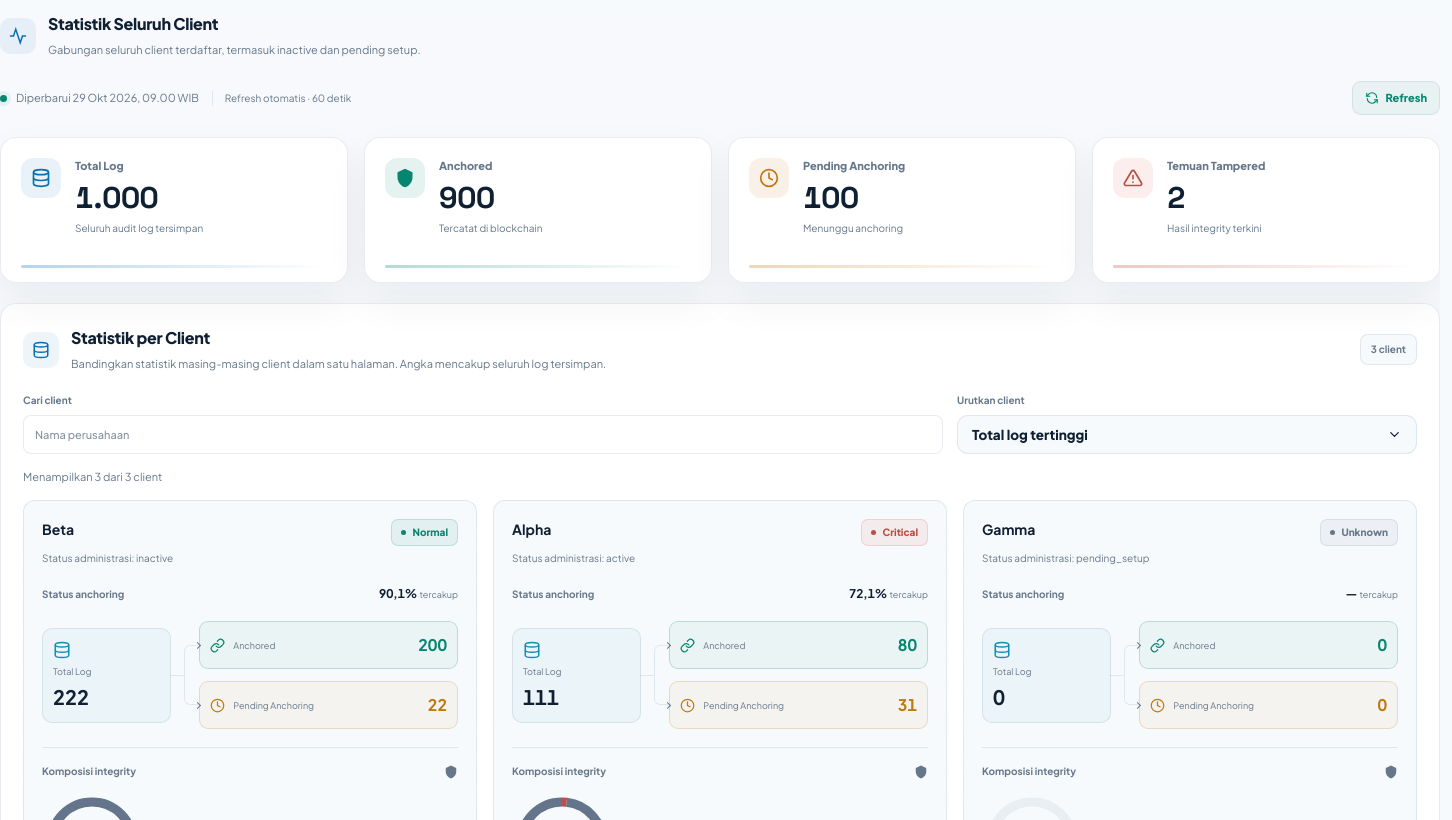
it: retains snapshot after refresh failure and supports retry
Click the button "Refresh": click(1396, 98) [1352, 81, 1440, 115]
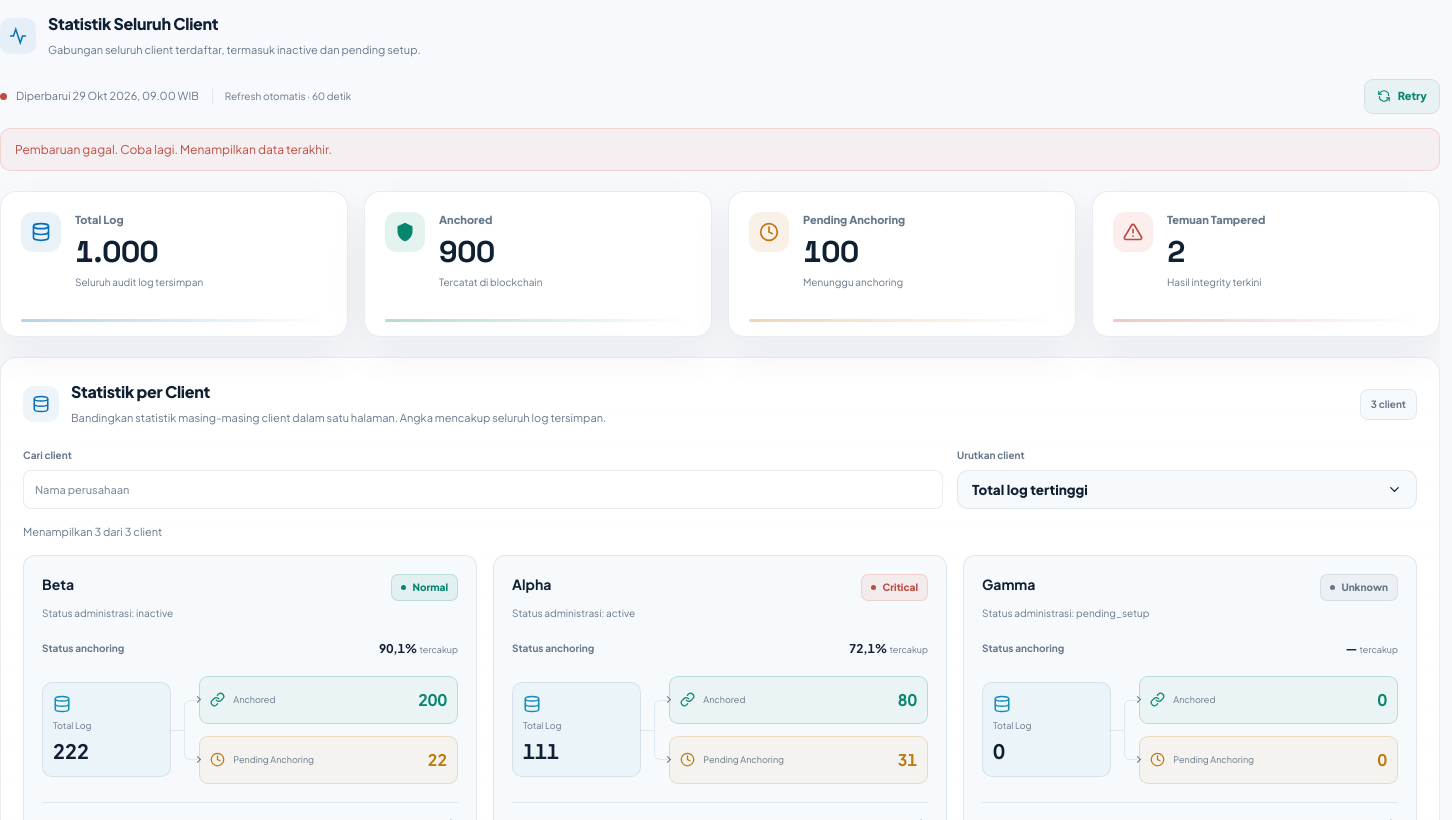
Now the message shows "Menampilkan data terakhir", box [178, 142, 332, 157]
Click the button "Retry": click(1402, 96) [1364, 79, 1440, 114]
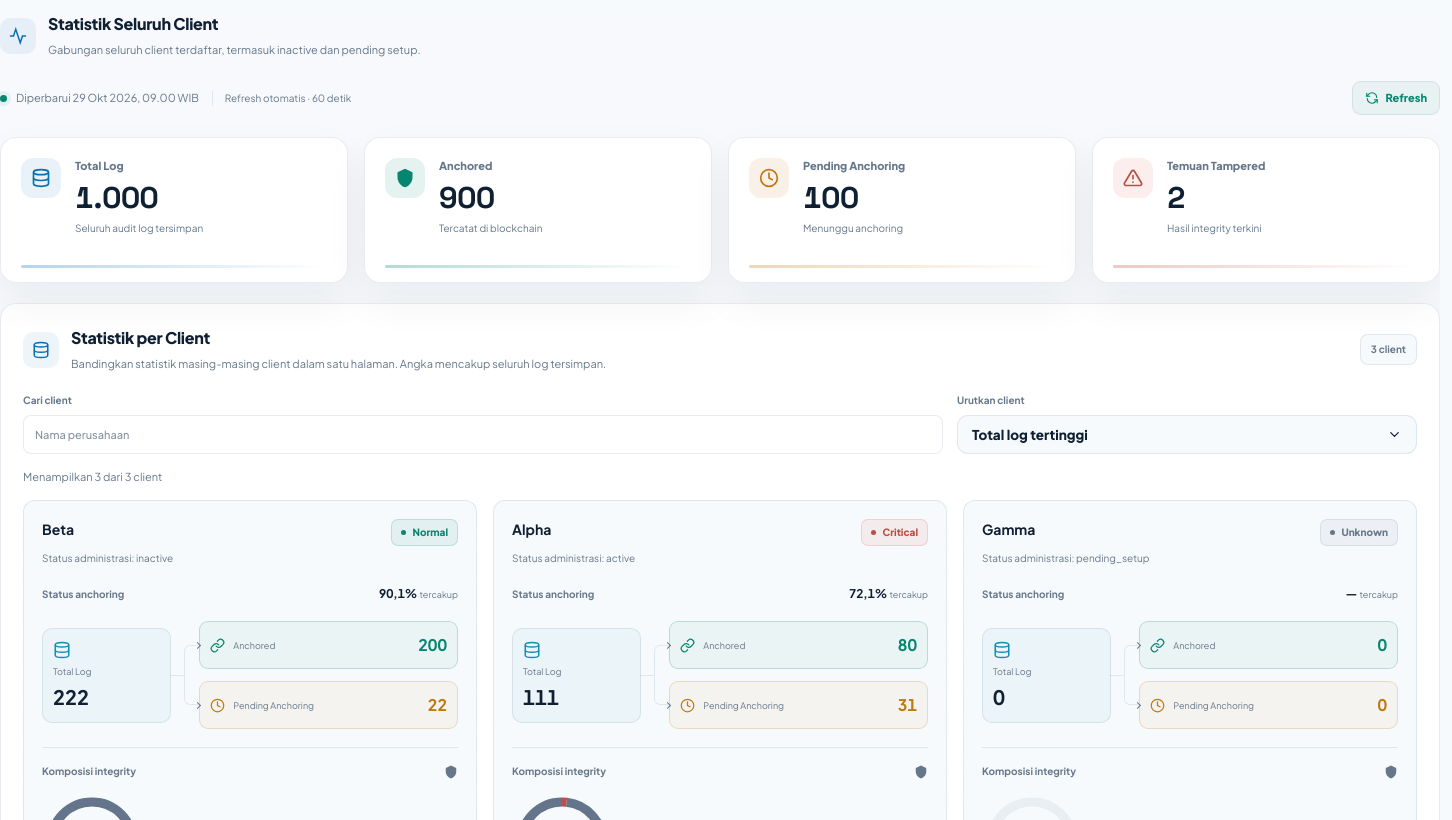
Now the message "Pembaruan gagal. Coba lagi. Menampilkan data terakhir." is gone
